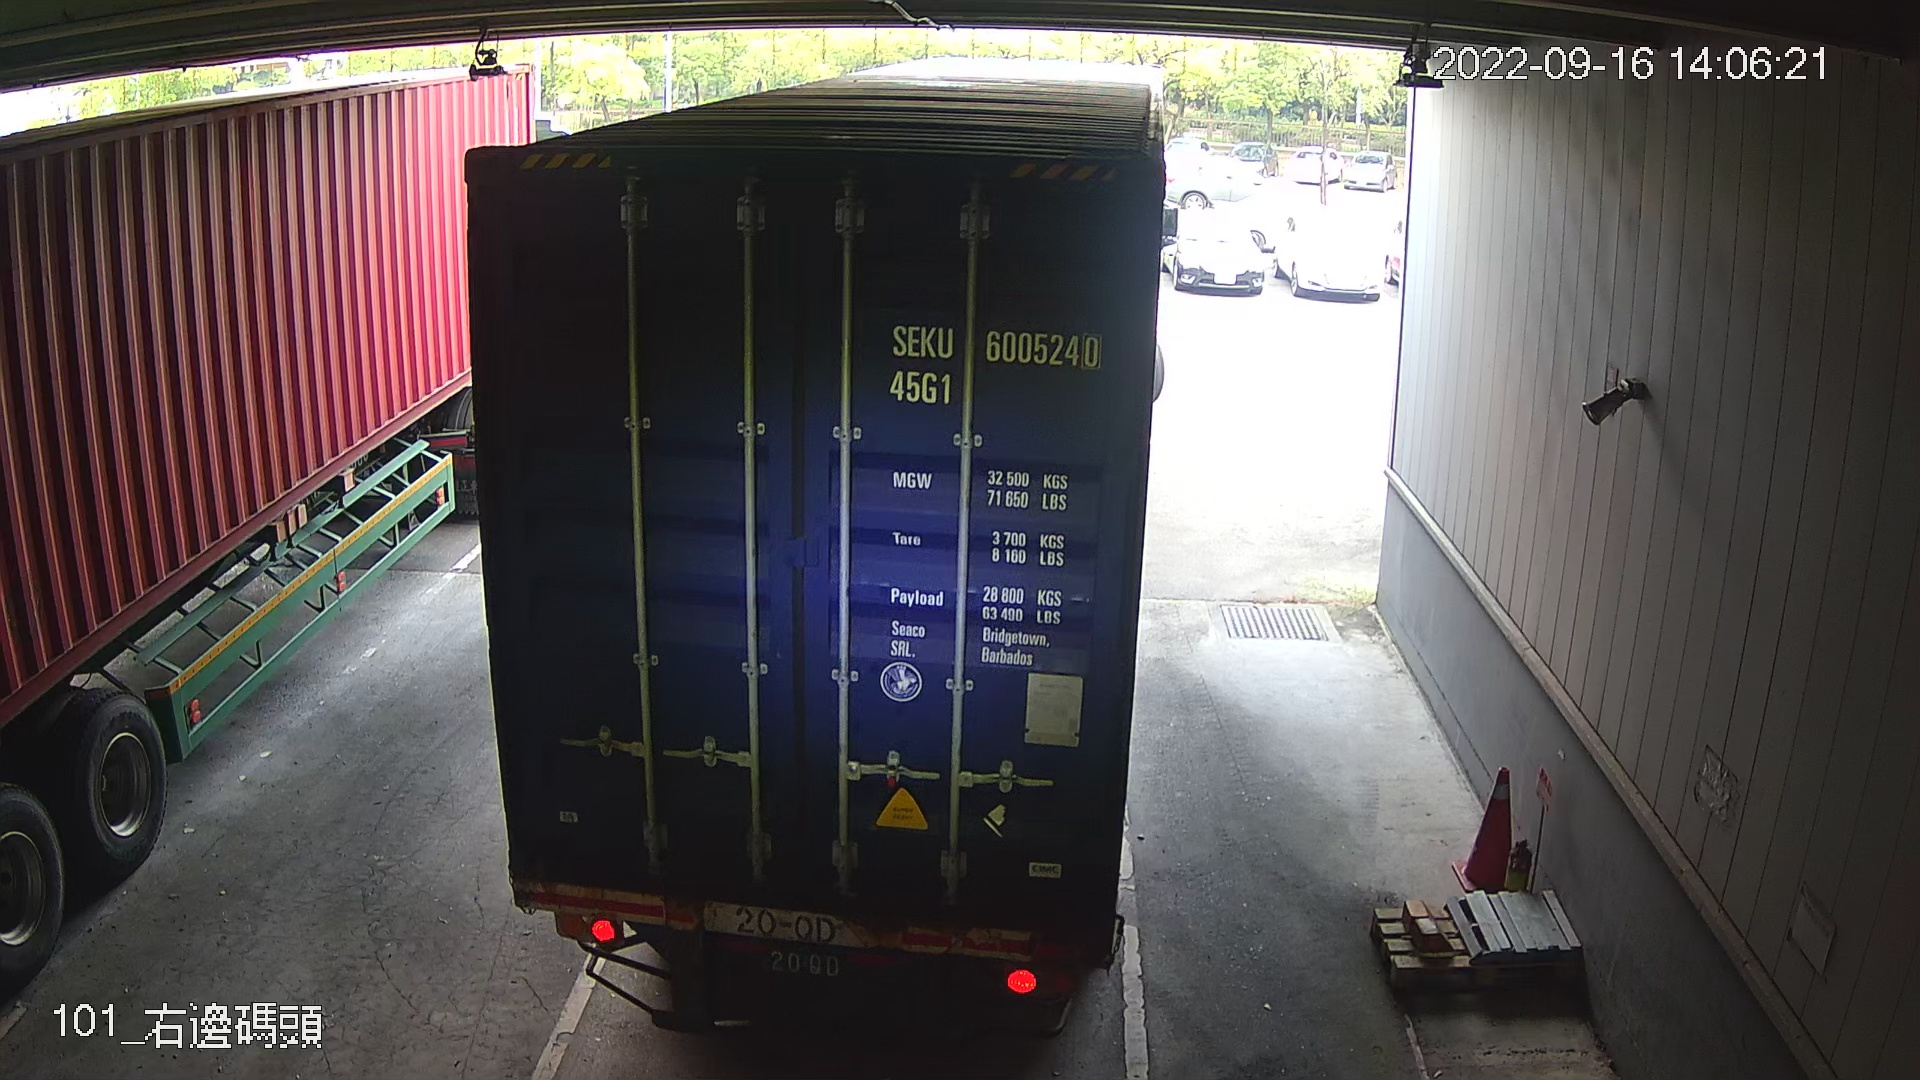container: (880, 319, 1109, 414)
